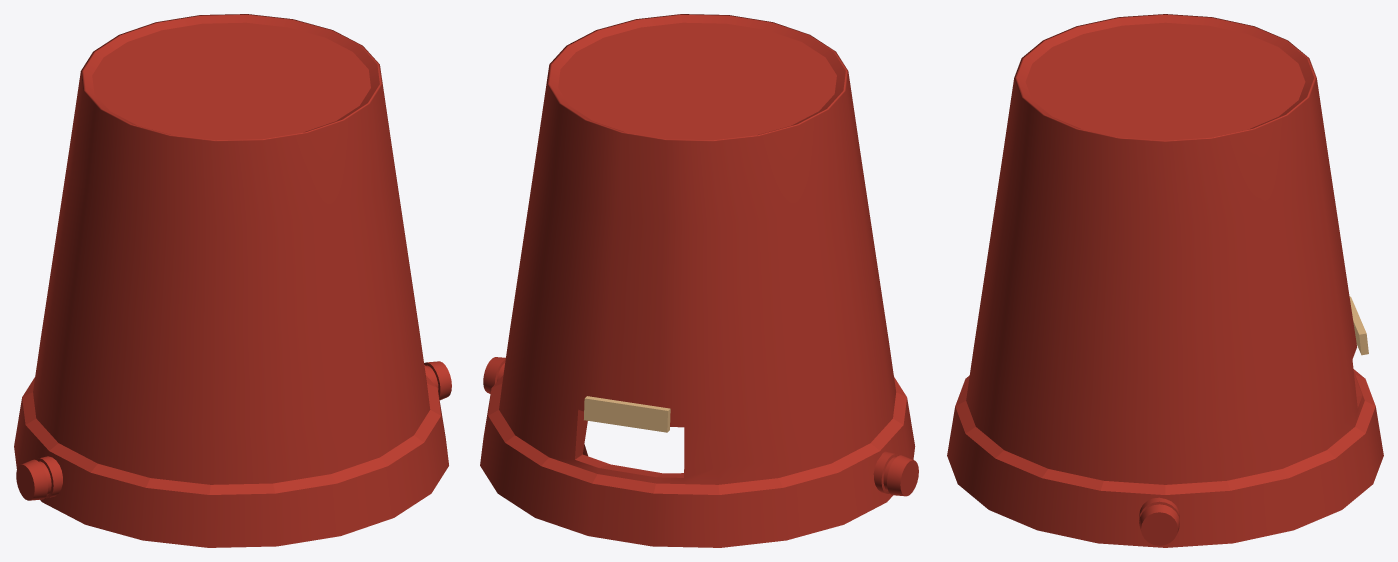
Rendered from PailShop.fbx.
3 views of the same model, side by side, from view 1: azimuth 30°, elevation 25°; view 2: azimuth 150°, elevation 25°; view 3: azimuth 270°, elevation 25° (orthographic).
Parts seen in each view (by area): view 1: PAILFull1; view 2: PAILFull1; view 3: PAILFull1.
Part boxes in pixels (left/top/right/bottom): PAILFull1: left=14, top=14, right=451, bottom=547; PAILFull1: left=480, top=14, right=918, bottom=547; PAILFull1: left=947, top=14, right=1383, bottom=547.
Bounding box in the file's own units: 16.36 × 14.18 × 14.86.
